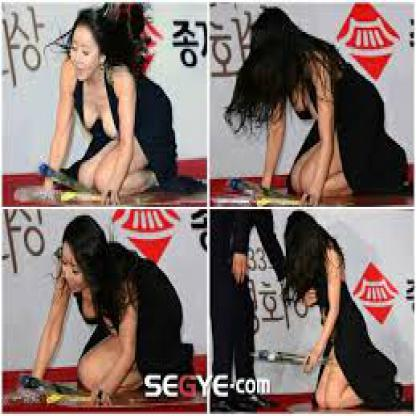Fall_Down: (9, 214, 192, 408)
